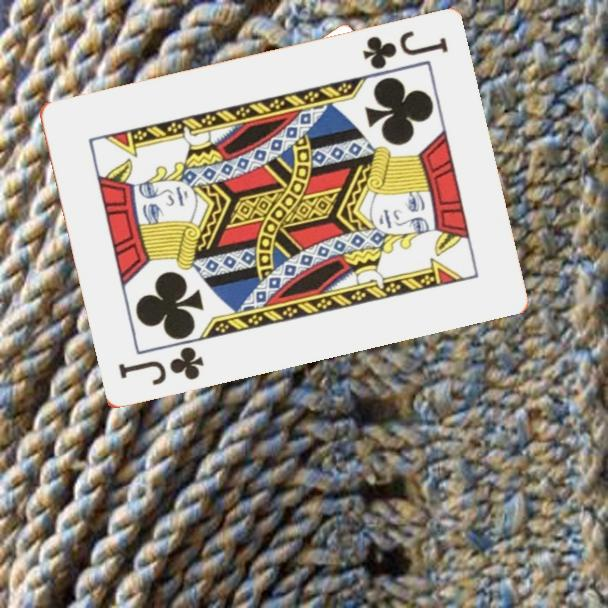c11: (358, 27, 451, 73), (114, 344, 206, 389)
